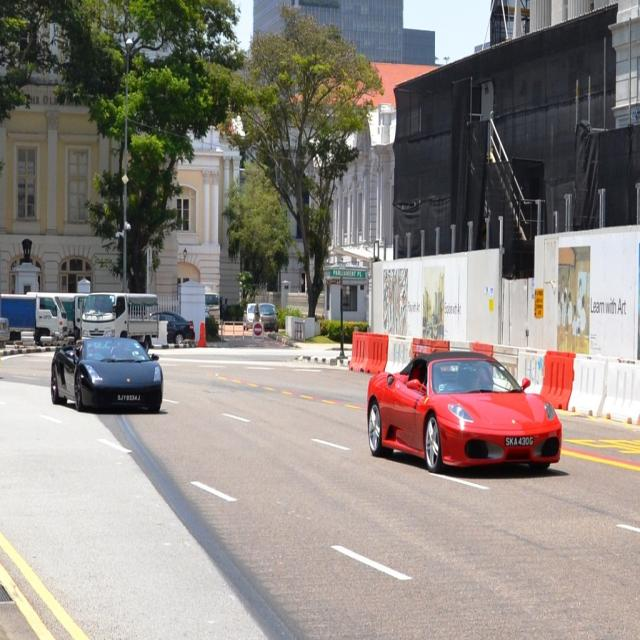car: (361, 340, 562, 478), (47, 334, 165, 414)
